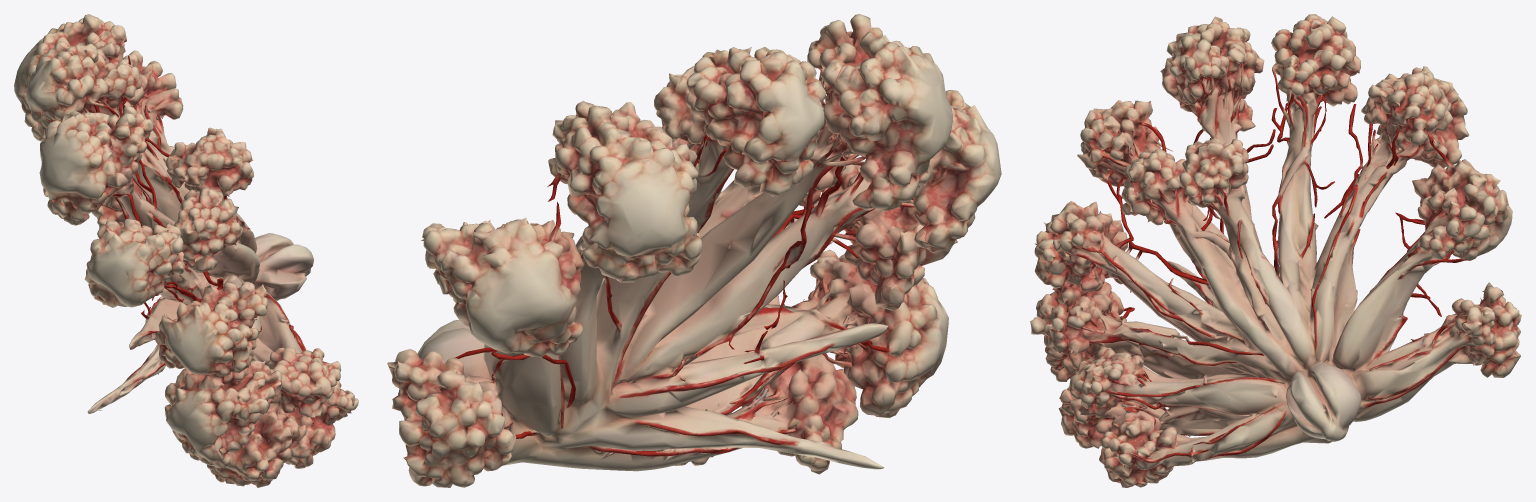
File: breast.glb
3 renders of one model, left to right at view 1: azimuth 30°, elevation 25°; view 2: azimuth 150°, elevation 25°; view 3: azimuth 270°, elevation 25°, orthographic. The views are drawn at different scales.
Visible parts, largest first — view 1: tripo_node_62316533-83cb-4fb9-92a5-ecca8828dc91; view 2: tripo_node_62316533-83cb-4fb9-92a5-ecca8828dc91; view 3: tripo_node_62316533-83cb-4fb9-92a5-ecca8828dc91.
Part boxes in pixels (box(x1,y1,x2,y2)): tripo_node_62316533-83cb-4fb9-92a5-ecca8828dc91: box(14, 14, 358, 487); tripo_node_62316533-83cb-4fb9-92a5-ecca8828dc91: box(387, 14, 1001, 487); tripo_node_62316533-83cb-4fb9-92a5-ecca8828dc91: box(1030, 14, 1521, 487).
Bounding box in the file's own units: 0.7827 × 0.8923 × 0.9991.
Materials: 1 (1 with a texture image).
